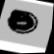correct: (2, 4, 42, 39)
